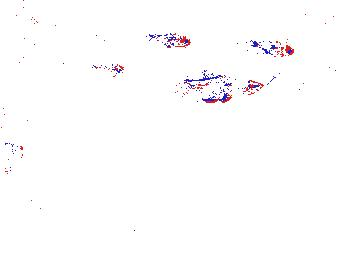X-ray fish: (102, 158, 131, 204)
red belly glassfish: (146, 28, 191, 51), (251, 39, 297, 57)
redtail glassfish: (172, 70, 265, 105), (258, 58, 337, 92), (55, 57, 125, 79)
